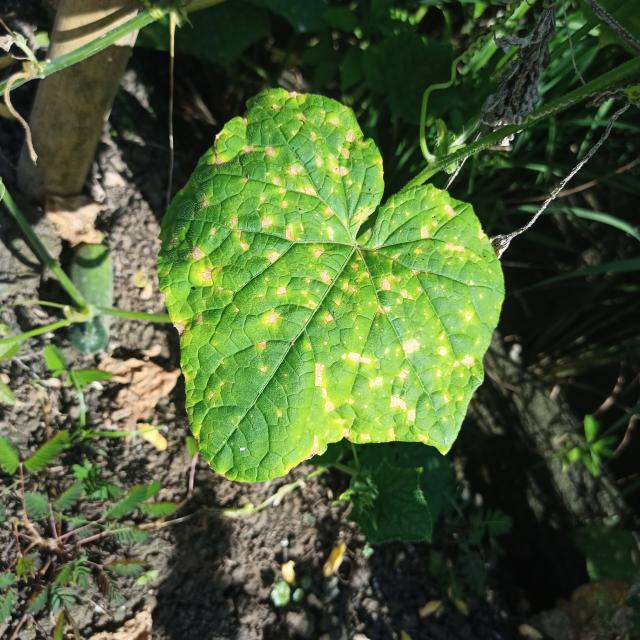disease_cucumber: (163, 87, 480, 451)
